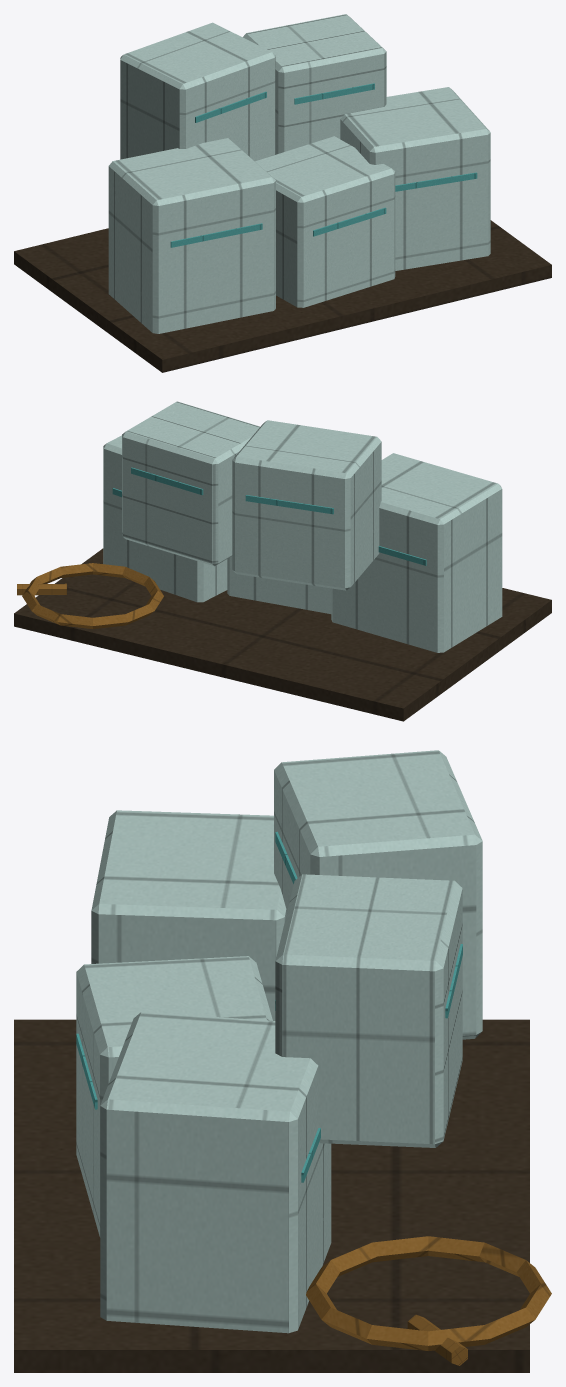
File: ice-blocks.e9.glb
The picture shows the model from 3 angles, top to bottom: view 1: azimuth 30°, elevation 25°; view 2: azimuth 150°, elevation 25°; view 3: azimuth 270°, elevation 25°; orthographic projection. The views are drawn at different scales.
Visible parts, largest first — view 1: IceBlocksE9; view 2: IceBlocksE9; view 3: IceBlocksE9.
Boxes of the visible parts, x1,y1,x2,y2 form: IceBlocksE9: (14,14,551,372); IceBlocksE9: (14,401,551,721); IceBlocksE9: (14,750,551,1372).
Bounding box in the file's own units: 2.63 × 1.28 × 1.72.
1 material, 1 textured.
